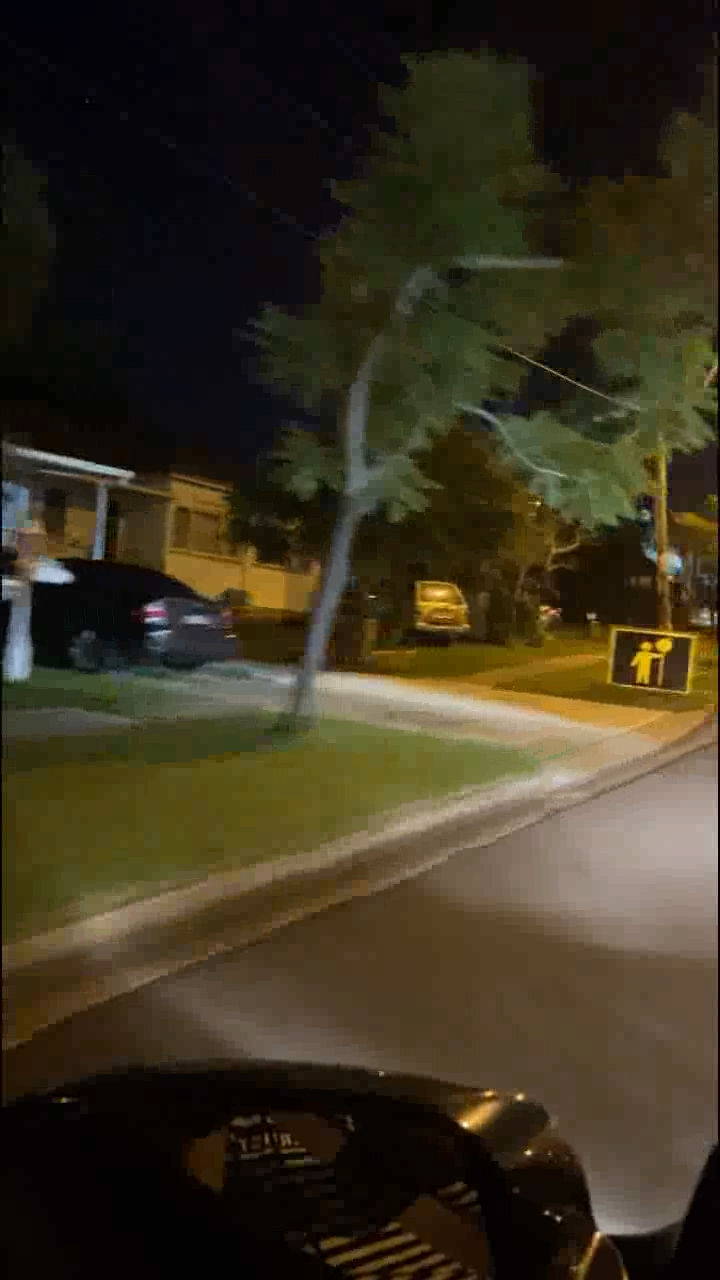prepare to stop board: (608, 626, 697, 691)
